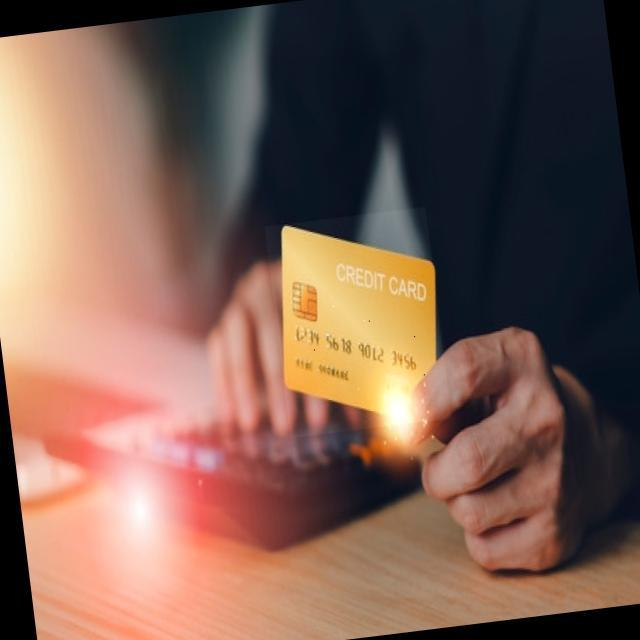payment_card: (278, 223, 438, 416)
